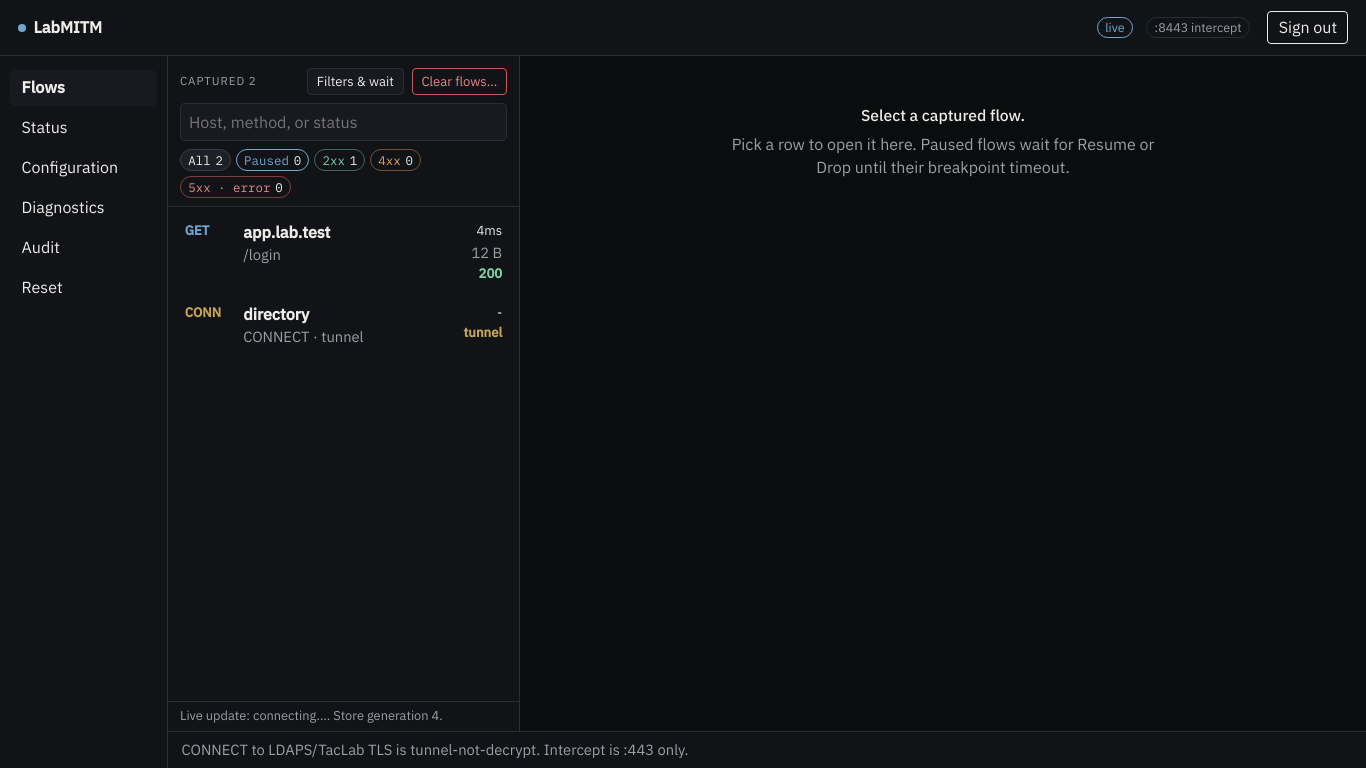
Test: FlowsWorkspace › filters the list by CONN and tunnel without reconnecting EventSource
The image size is (1366, 768).
Expected: the text "app.lab.test" is shown, [243,222,330,242]
In the field with placeholder "Host, method, or status": (344, 122) [180,103,507,141], type "tunnel"
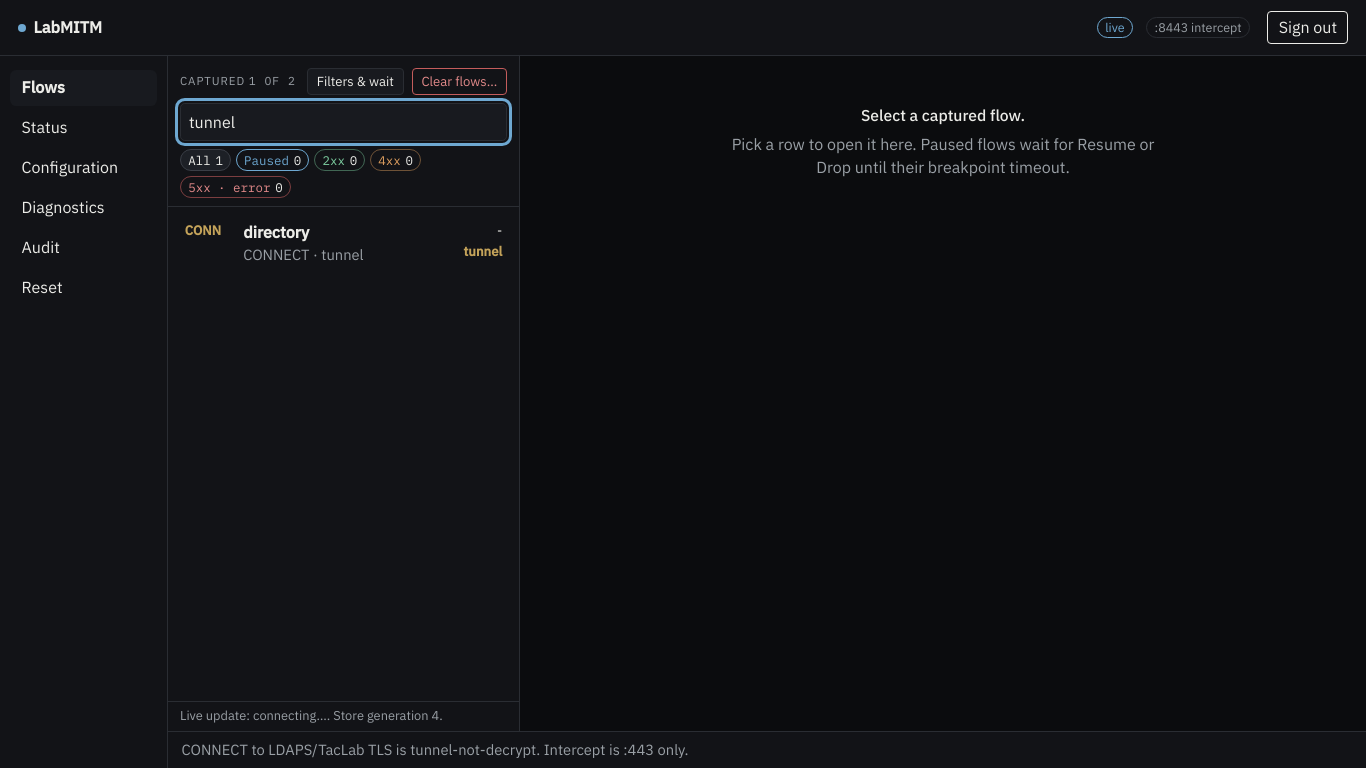
Expected: the text "CONN" is shown, [185,222,221,239]
Expected: the link "app.lab.test" is gone
